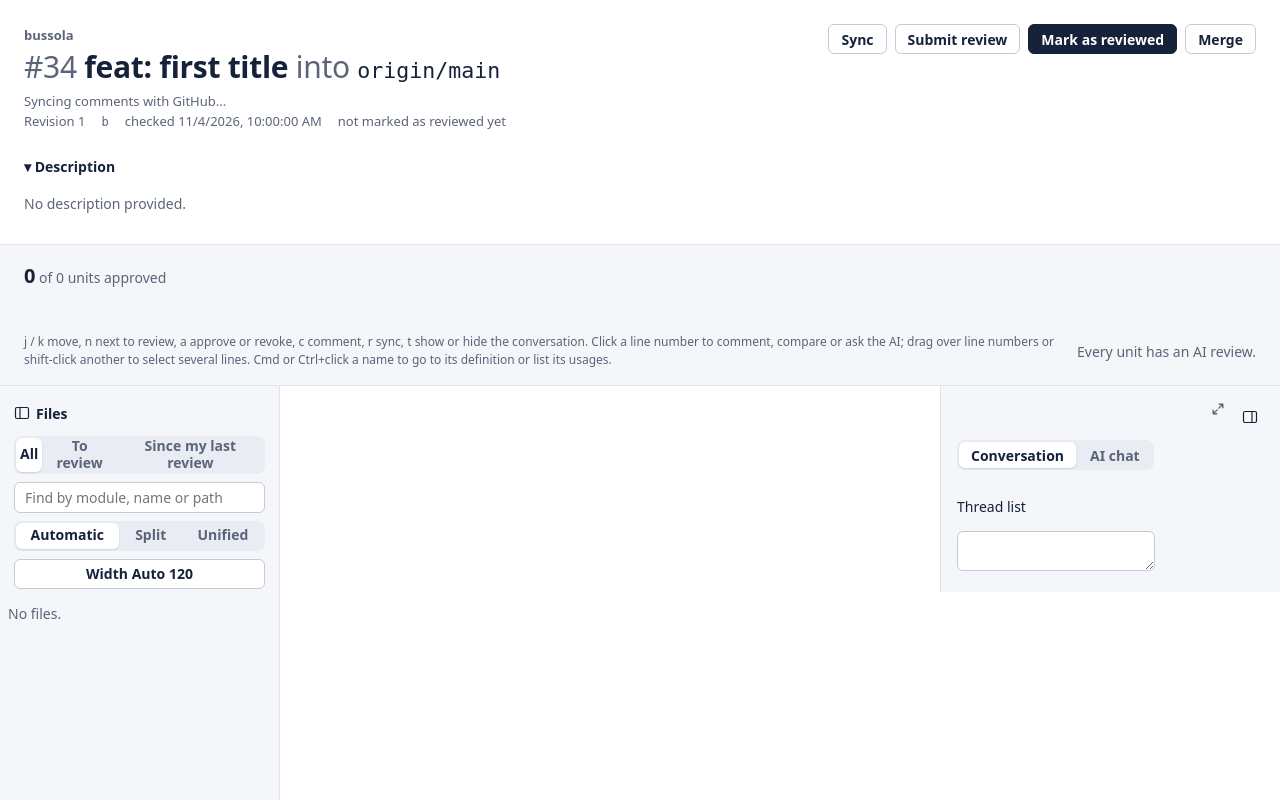
Test: ReviewPage conversation panel › opens the panel in a full-height window and closes it with Esc, the close button or the backdrop, giving focus back to the control
Later steps or results of the test are not shown.
Click the button named "Expand conversation" at [1218, 409], box 1202,402 -> 1234,416
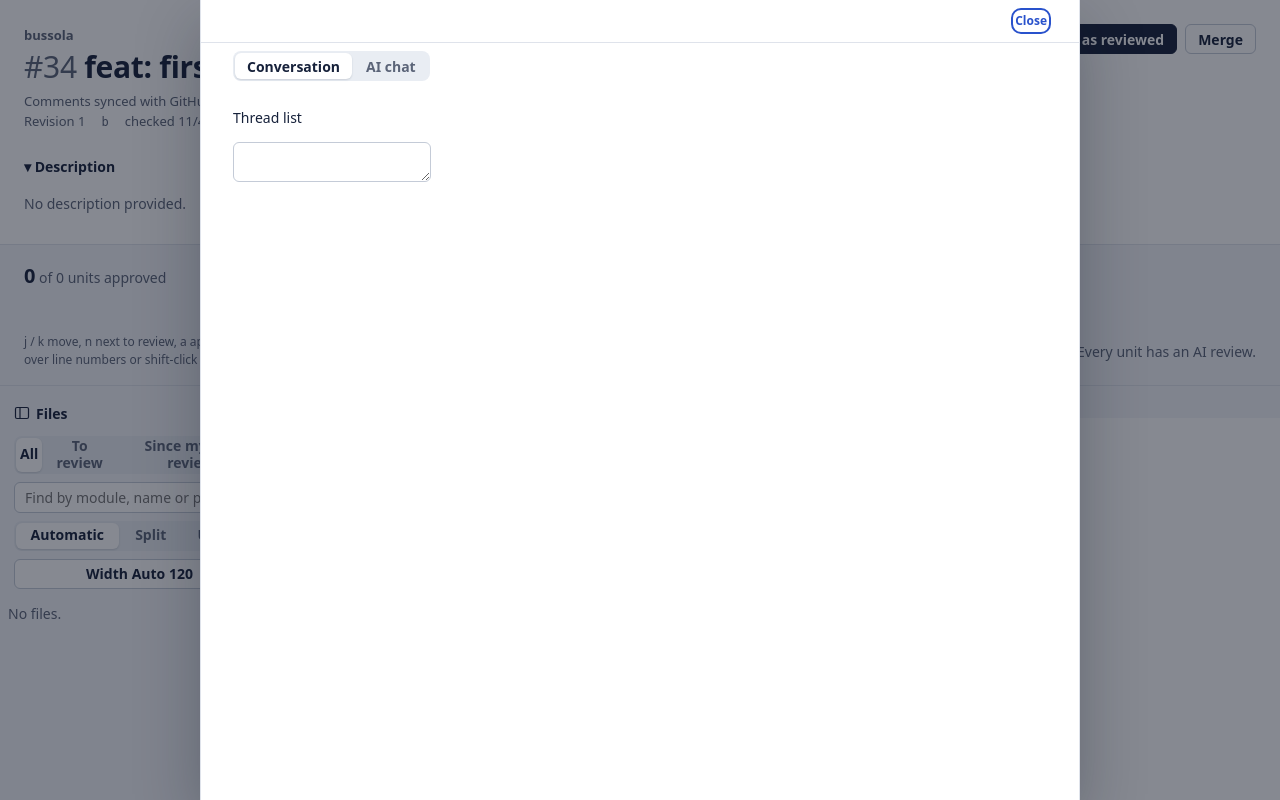
Expected: the text "Thread list" is shown, 233,108 -> 302,127
Expected: the dialog "Conversation" has attribute aria-modal="true"
Press Escape in the button "Close", box 1015,12 -> 1047,30
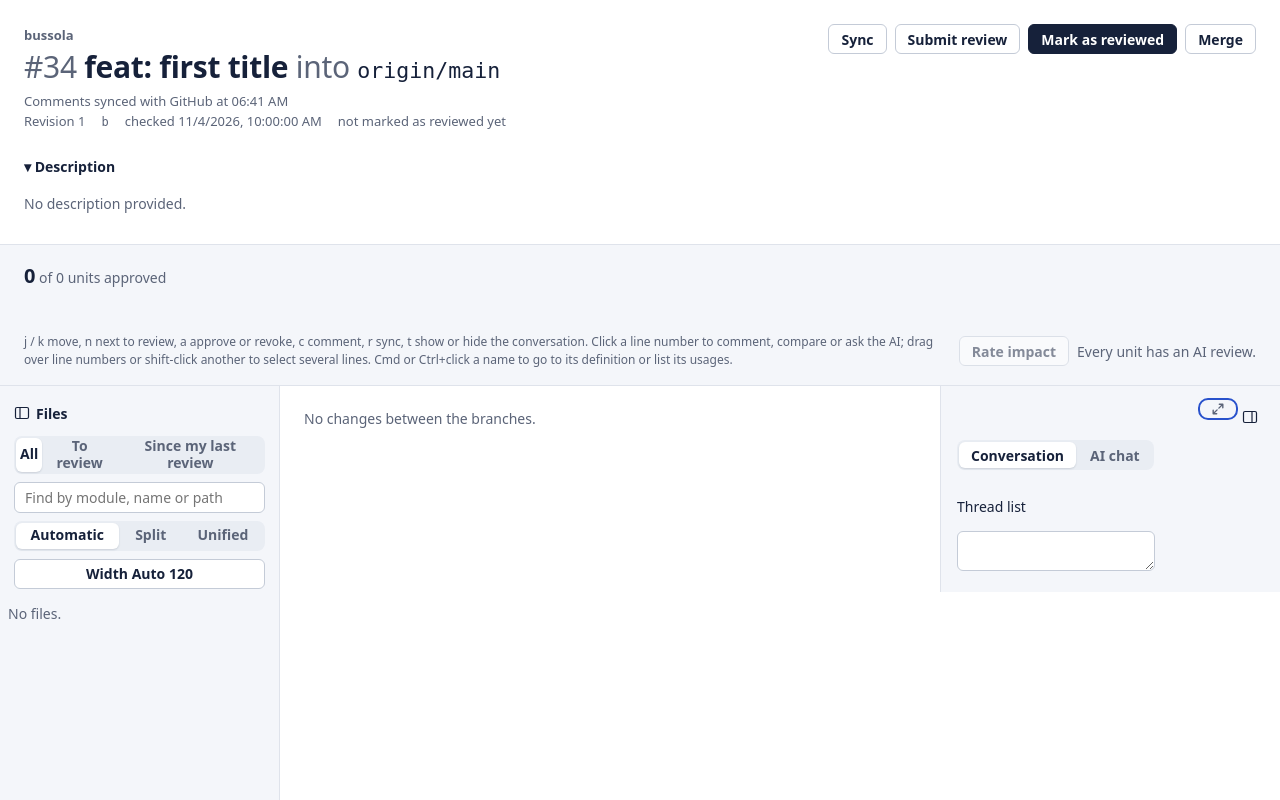
Expected: the text "Thread list" is shown, 957,497 -> 1026,516
Click the button named "Expand conversation" at [1218, 409], box 1202,402 -> 1234,416
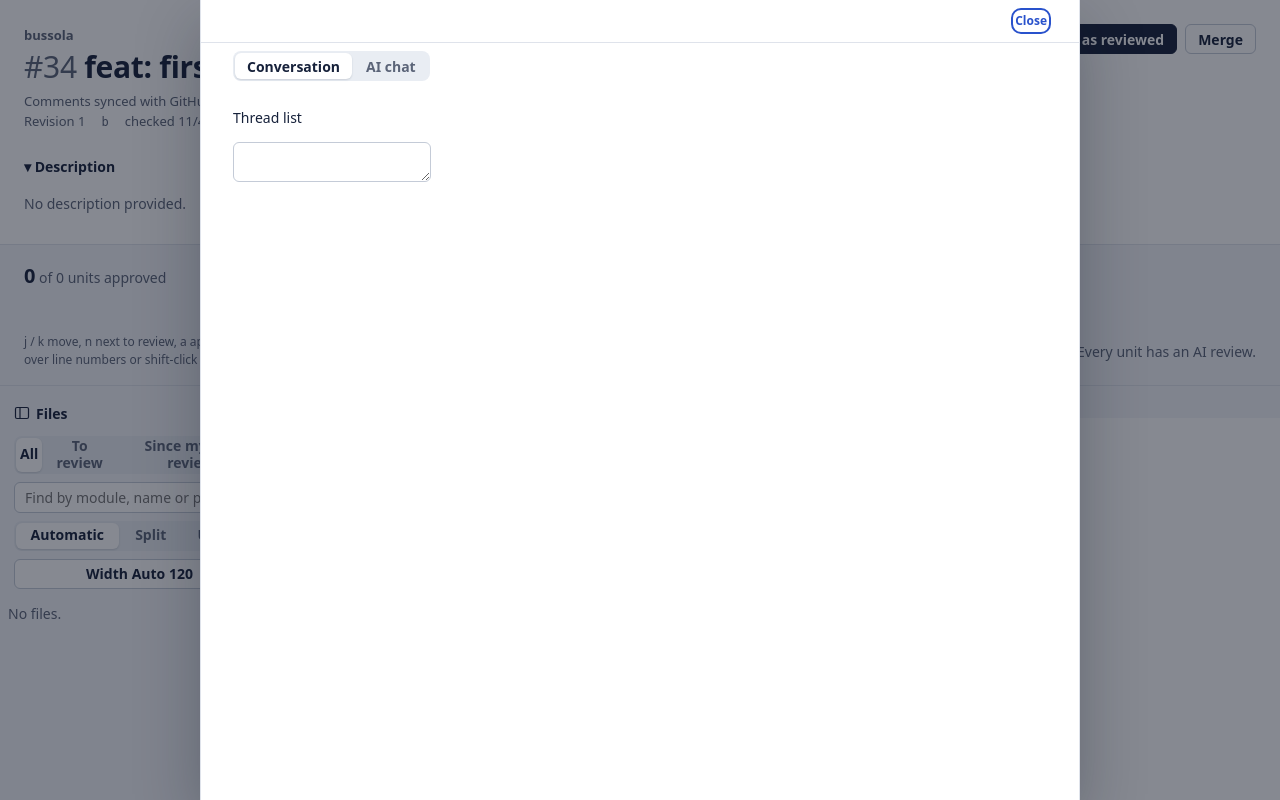
Expected: the text "Thread list" is shown, 233,108 -> 302,127
Expected: the dialog "Conversation" has attribute aria-modal="true"
Click the button "Close" at [1031, 21], box 1015,12 -> 1047,30
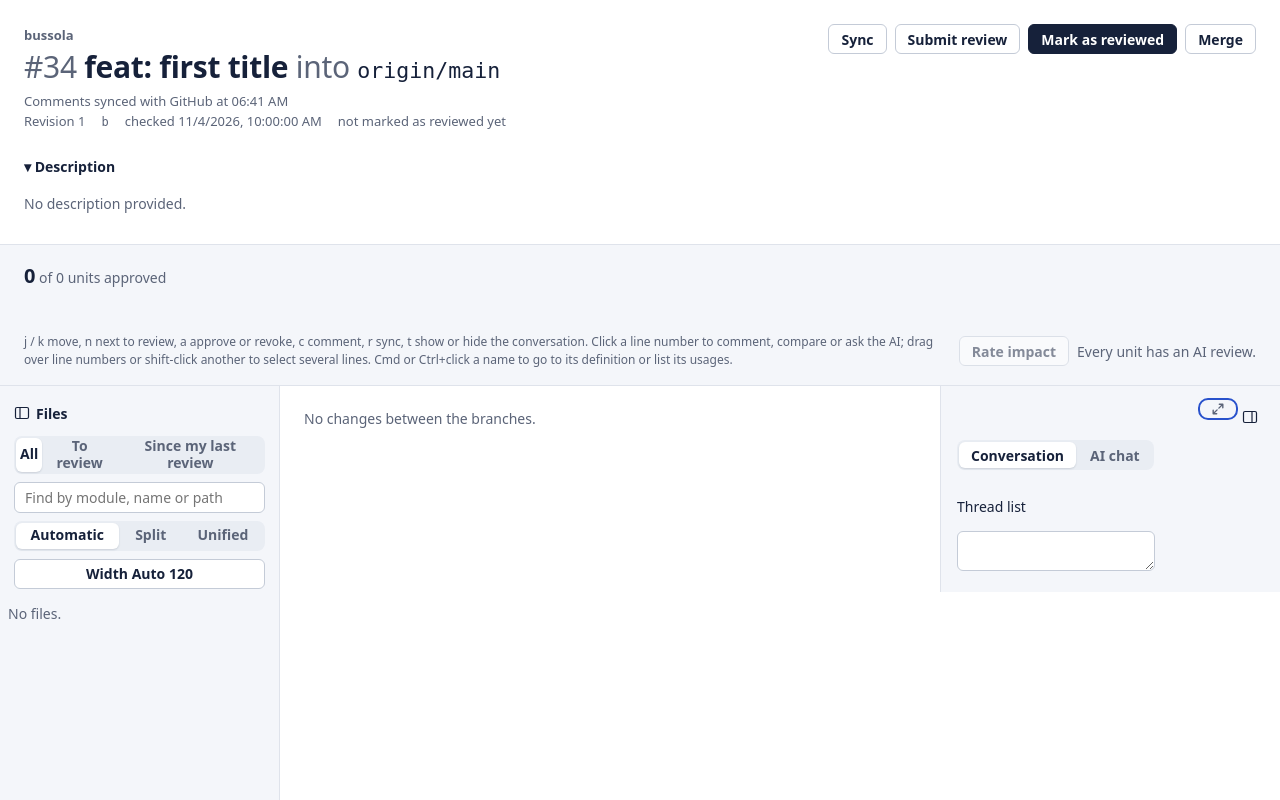
Expected: the text "Thread list" is shown, 957,497 -> 1026,516
Click the button named "Expand conversation" at [1218, 409], box 1202,402 -> 1234,416
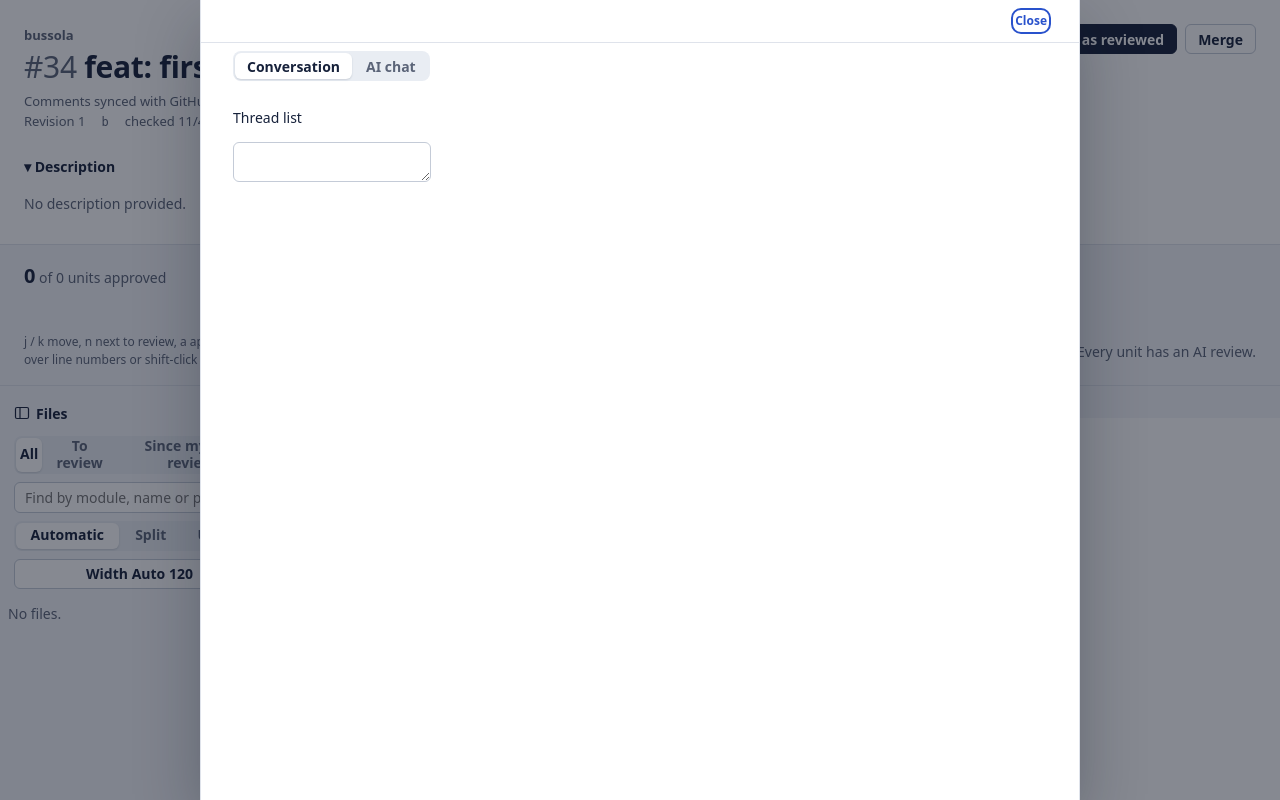
Expected: the text "Thread list" is shown, 233,108 -> 302,127
Expected: the dialog "Conversation" has attribute aria-modal="true"
